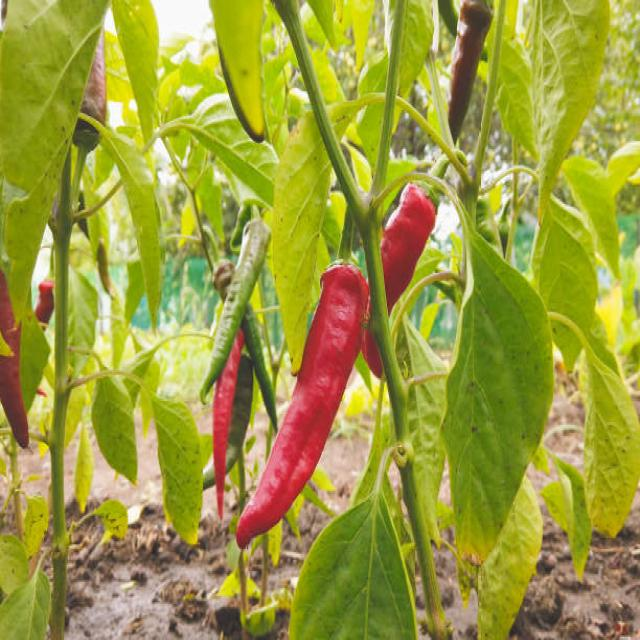Ripe: (237, 265, 368, 547), (200, 220, 270, 398), (381, 184, 434, 312), (212, 329, 243, 519)
